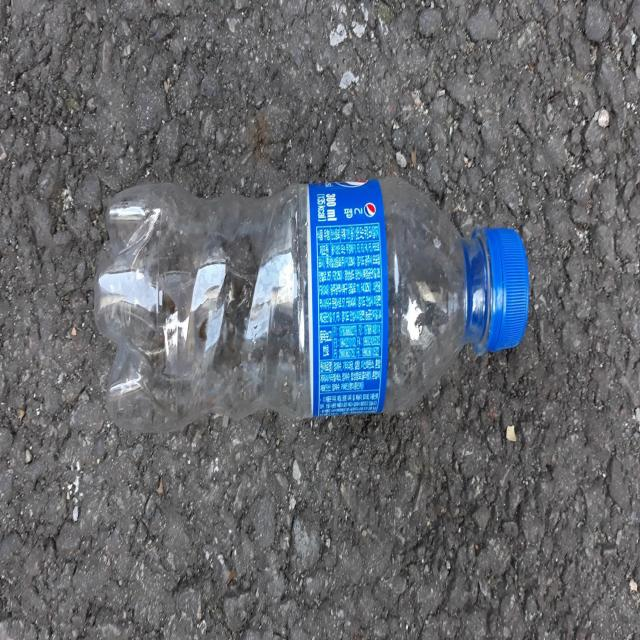plastic: (94, 177, 530, 432)
